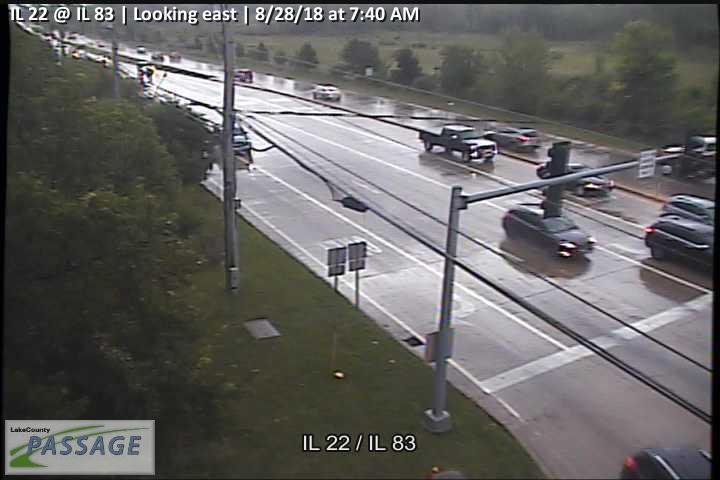SUV: (501, 202, 595, 257), (643, 215, 715, 270), (660, 195, 716, 228), (483, 126, 543, 150)
Sedan: (536, 162, 614, 196)
Truck: (418, 122, 498, 163)
